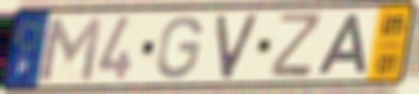4: (95, 14, 134, 84)
A: (312, 12, 370, 77)
G: (154, 14, 205, 82)
M: (37, 15, 105, 84)
V: (213, 11, 262, 82)
Z: (267, 11, 324, 80)
